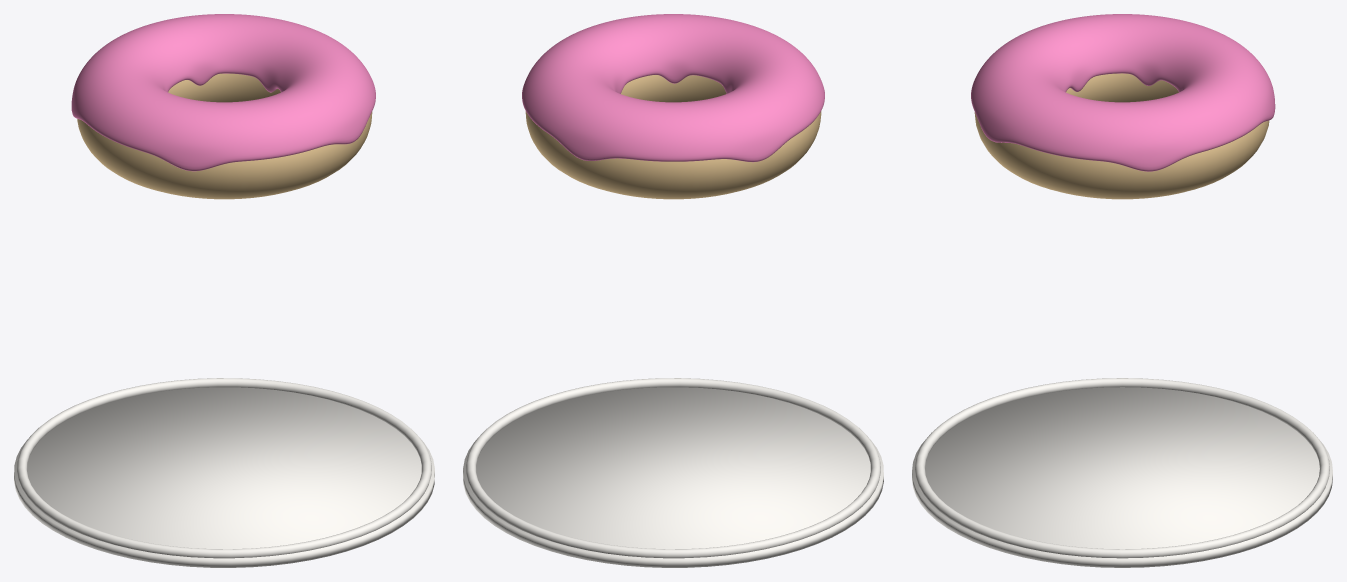
File: donut.glb
The picture shows the model from 3 angles, left to right: view 1: azimuth 30°, elevation 25°; view 2: azimuth 150°, elevation 25°; view 3: azimuth 270°, elevation 25°; orthographic projection.
Visible parts, largest first — view 1: Plate, Frosting, Donut, PlateRim; view 2: Plate, Frosting, Donut, PlateRim; view 3: Plate, Frosting, Donut, PlateRim.
Part boxes in pixels (x1,y1,x2,y2): Plate: [14, 387, 434, 567]; Frosting: [71, 14, 375, 171]; Donut: [77, 73, 372, 199]; PlateRim: [17, 378, 431, 558]; Plate: [463, 387, 883, 567]; Frosting: [522, 14, 824, 162]; Donut: [525, 75, 821, 199]; PlateRim: [466, 378, 880, 558]; Plate: [912, 387, 1332, 567]; Frosting: [971, 14, 1275, 171]; Donut: [974, 73, 1269, 199]; PlateRim: [915, 378, 1329, 558].
Size of what is drawn, in the model's own units: 3.7 by 4.04 by 3.7.
